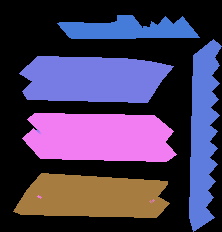parkingspot: (189, 39, 221, 231), (22, 128, 176, 161), (27, 113, 173, 143), (13, 189, 169, 217), (19, 56, 173, 83), (22, 73, 160, 102), (27, 173, 167, 201), (57, 15, 199, 38)
